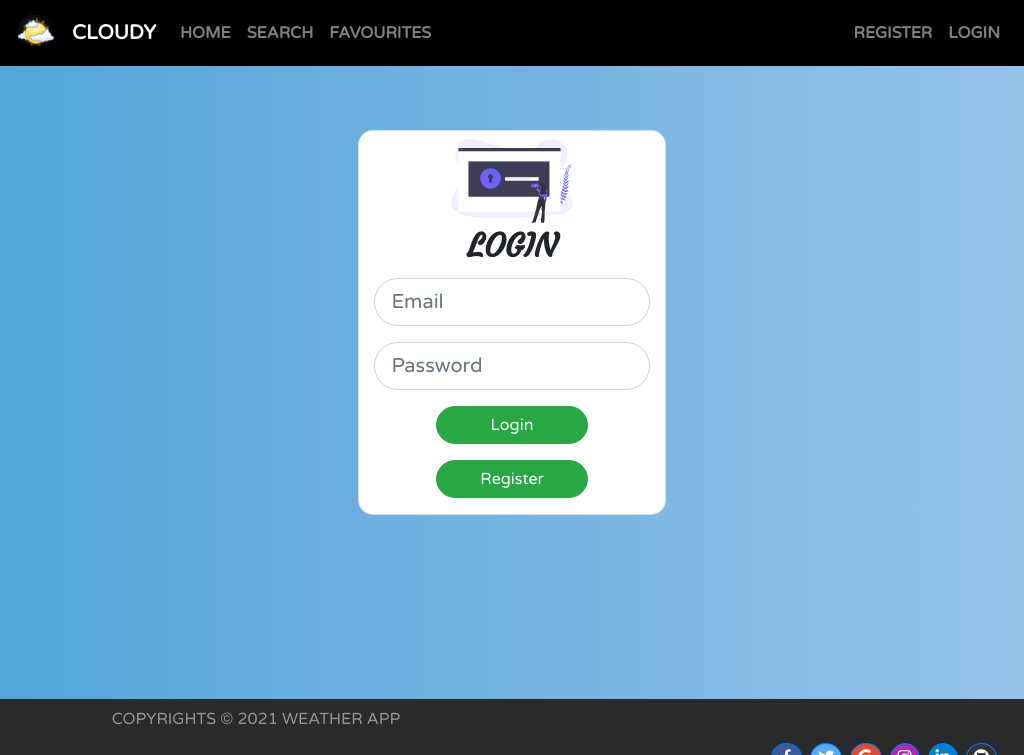
Test: Check for login credentials › Check Invalid Password Credentials
In the field with test id "loginemail": (512, 302) [374, 278, 649, 326], type "abc@xyz.com"
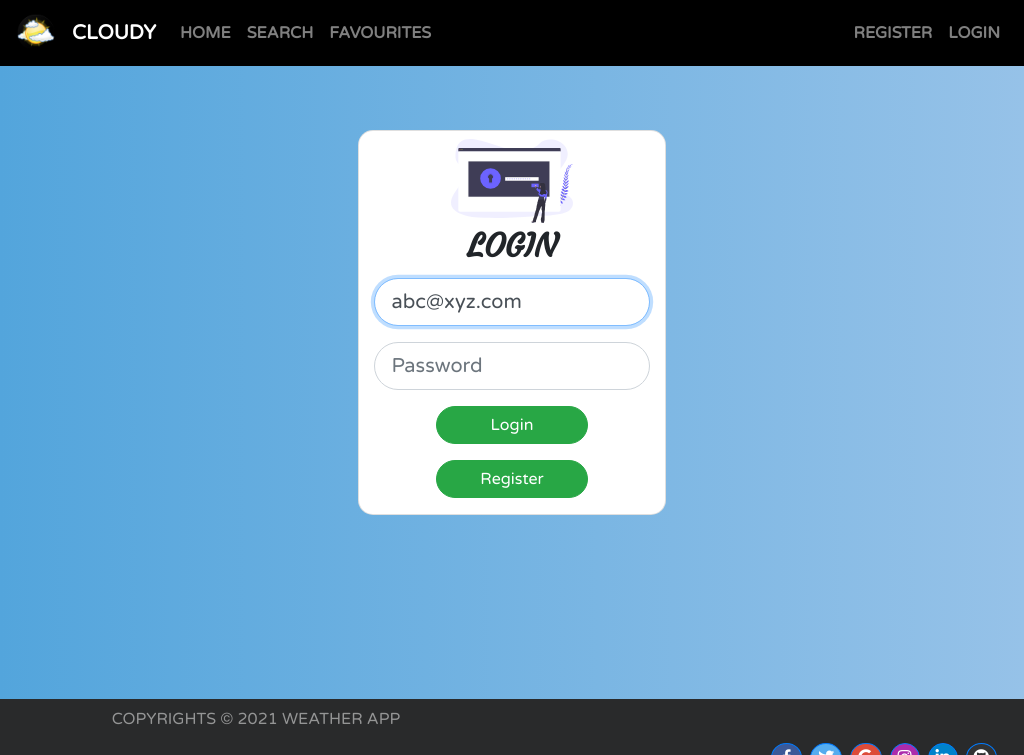
In the password field with test id "loginpass": (512, 366) [374, 342, 649, 390], type "Abc1"
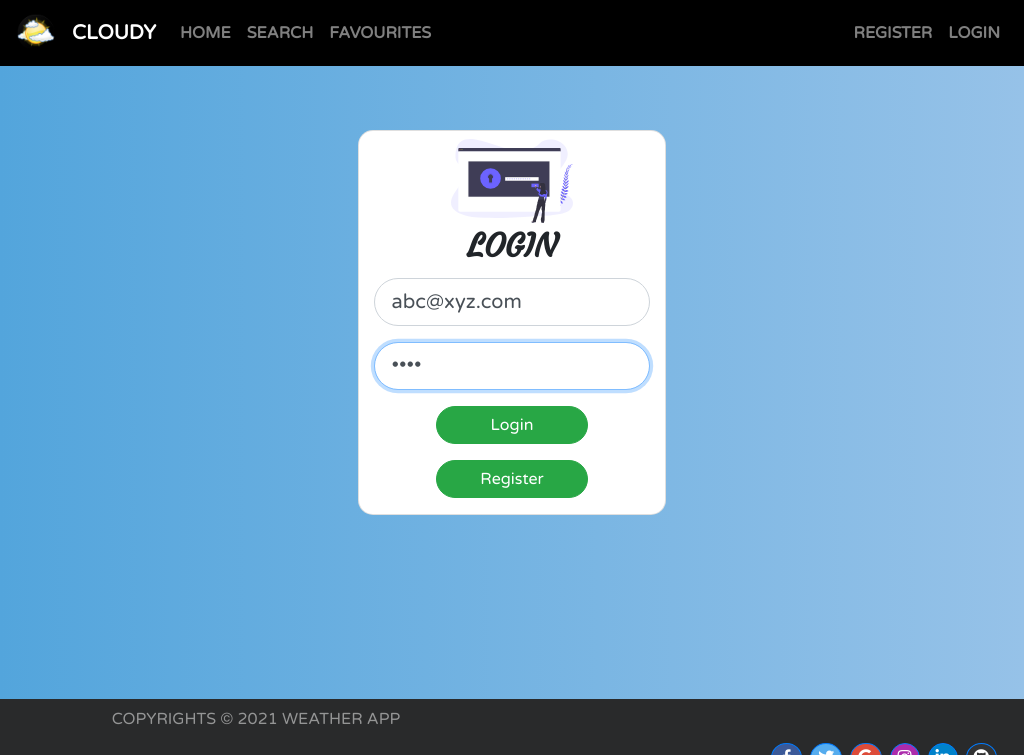
Click the button with test id "login-login-btn": (513, 425) [436, 406, 589, 444]
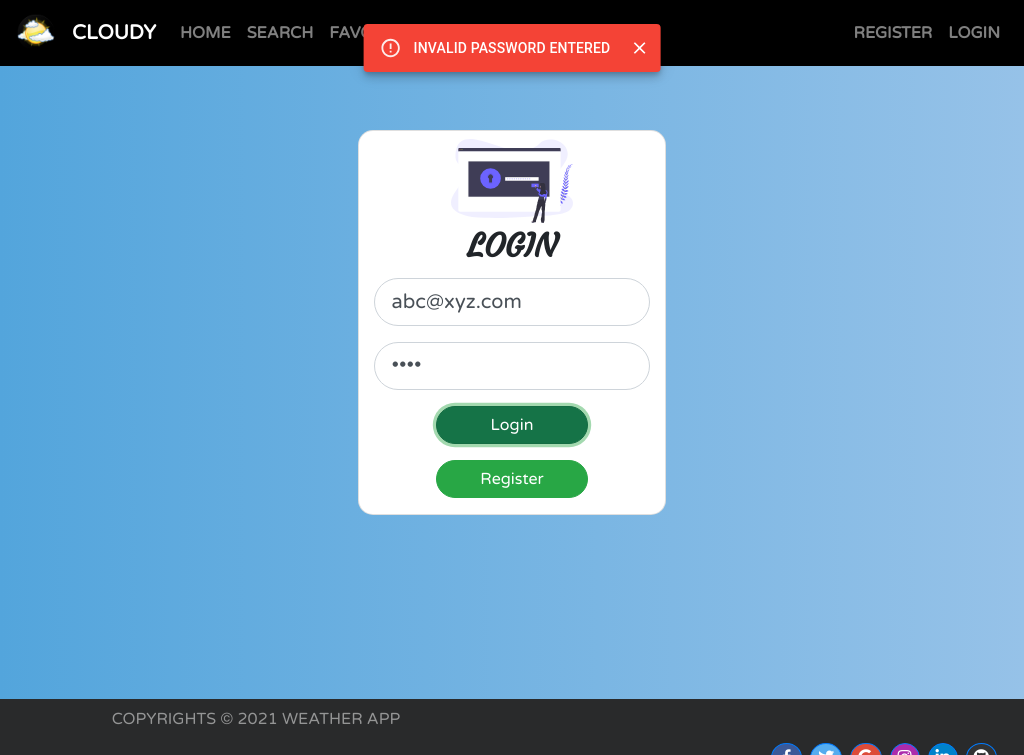
Now the text "Invalid Password Entered" is shown, box [414, 40, 610, 56]
